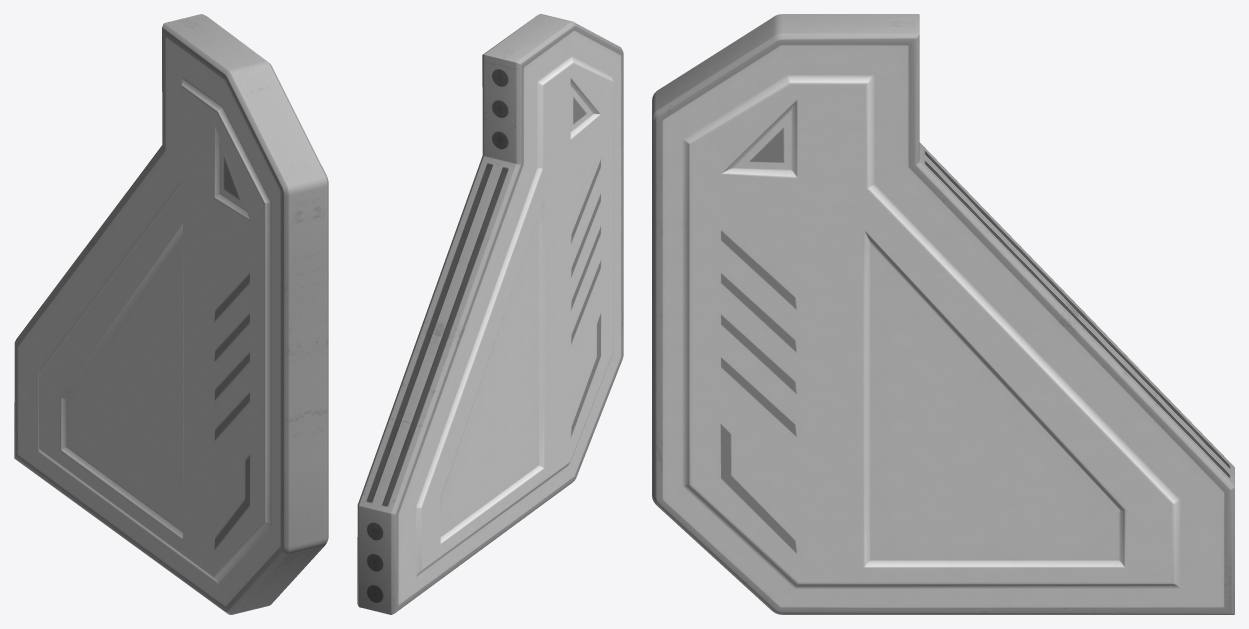
The model's file is SM_MGate01-500x350-1_GateL.FBX.
The picture shows the model from 3 angles, left to right: view 1: azimuth 30°, elevation 25°; view 2: azimuth 150°, elevation 25°; view 3: azimuth 270°, elevation 25°; orthographic projection. The views are drawn at different scales.
Visible parts, largest first — view 1: SM_MGate01-500x350-1_GateL; view 2: SM_MGate01-500x350-1_GateL; view 3: SM_MGate01-500x350-1_GateL.
Boxes of the visible parts, x1,y1,x2,y2 form: SM_MGate01-500x350-1_GateL: (14,14,328,614); SM_MGate01-500x350-1_GateL: (357,14,623,614); SM_MGate01-500x350-1_GateL: (652,14,1234,614).
Size of what is drawn, in the model's own units: 30.71 by 280 by 308.
